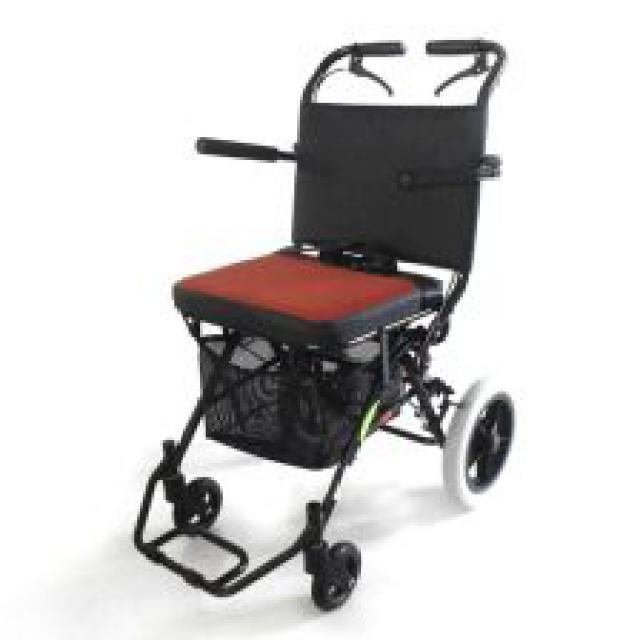wheelchair: (117, 17, 554, 637)
